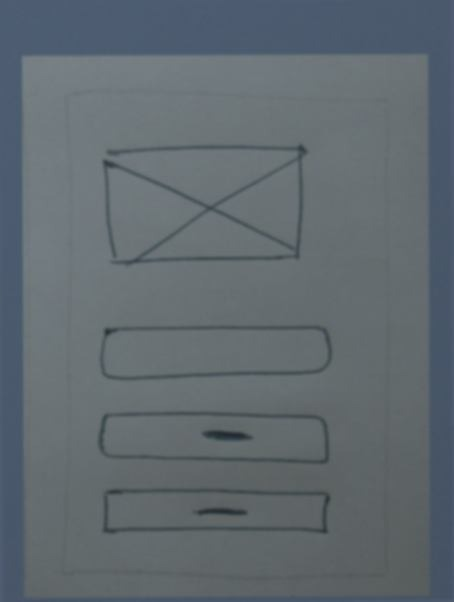button: (93, 404, 336, 475), (96, 484, 337, 545)
image: (99, 137, 315, 273)
text_input: (92, 317, 337, 395)
